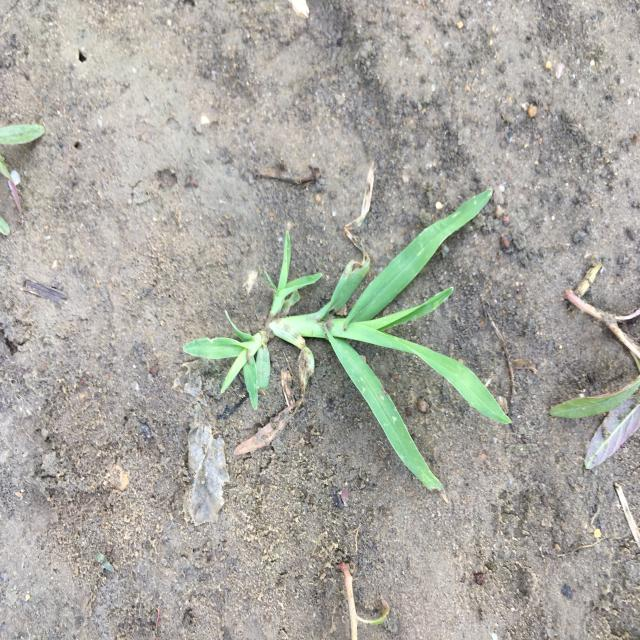Goosegrass: (180, 186, 514, 507)
